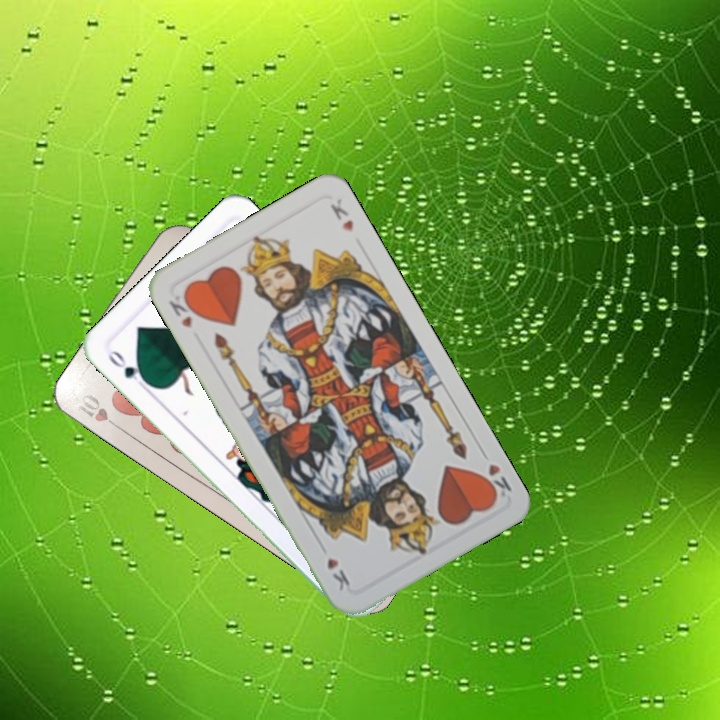GO: (103, 345, 153, 393)
H10: (70, 390, 126, 434)
HK: (476, 459, 515, 503), (164, 287, 201, 331)
